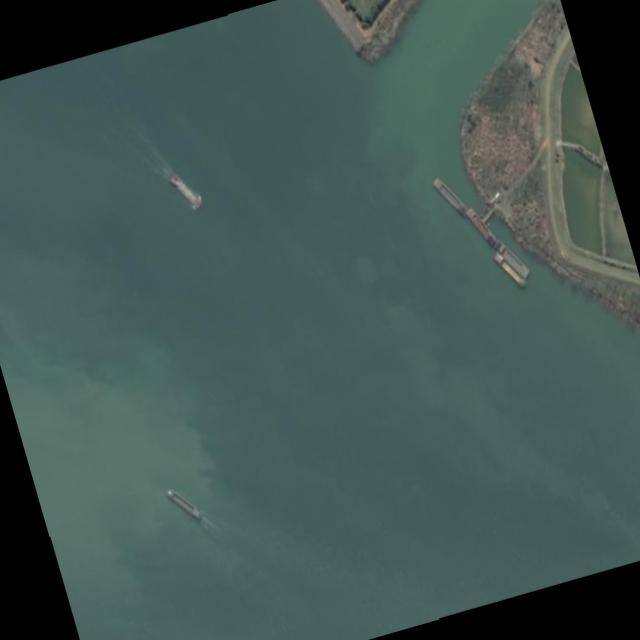ship: (432, 175, 467, 215), (495, 240, 531, 278), (466, 206, 497, 247), (168, 174, 202, 207), (493, 253, 526, 287), (167, 490, 201, 519)
